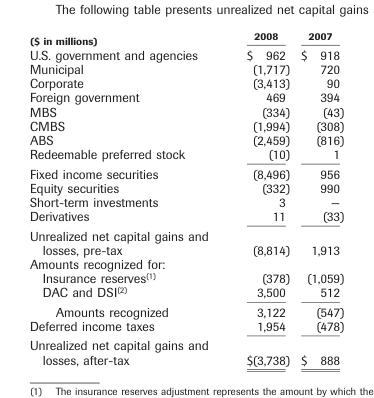table: (28, 29, 343, 366)
table column: (28, 29, 226, 366), (226, 29, 294, 366), (294, 29, 343, 366)
table column header: (28, 29, 343, 46)
table projected row header: (28, 256, 343, 270)
table row: (28, 225, 343, 256), (28, 335, 343, 366), (28, 29, 343, 46), (28, 146, 343, 163), (28, 163, 343, 180), (28, 208, 343, 225), (28, 284, 343, 301), (28, 301, 343, 318), (28, 318, 343, 335), (28, 46, 343, 61), (28, 89, 343, 104), (28, 61, 343, 75), (28, 75, 343, 89), (28, 104, 343, 118), (28, 118, 343, 132), (28, 132, 343, 146), (28, 180, 343, 194), (28, 194, 343, 208), (28, 256, 343, 270), (28, 270, 343, 284)
